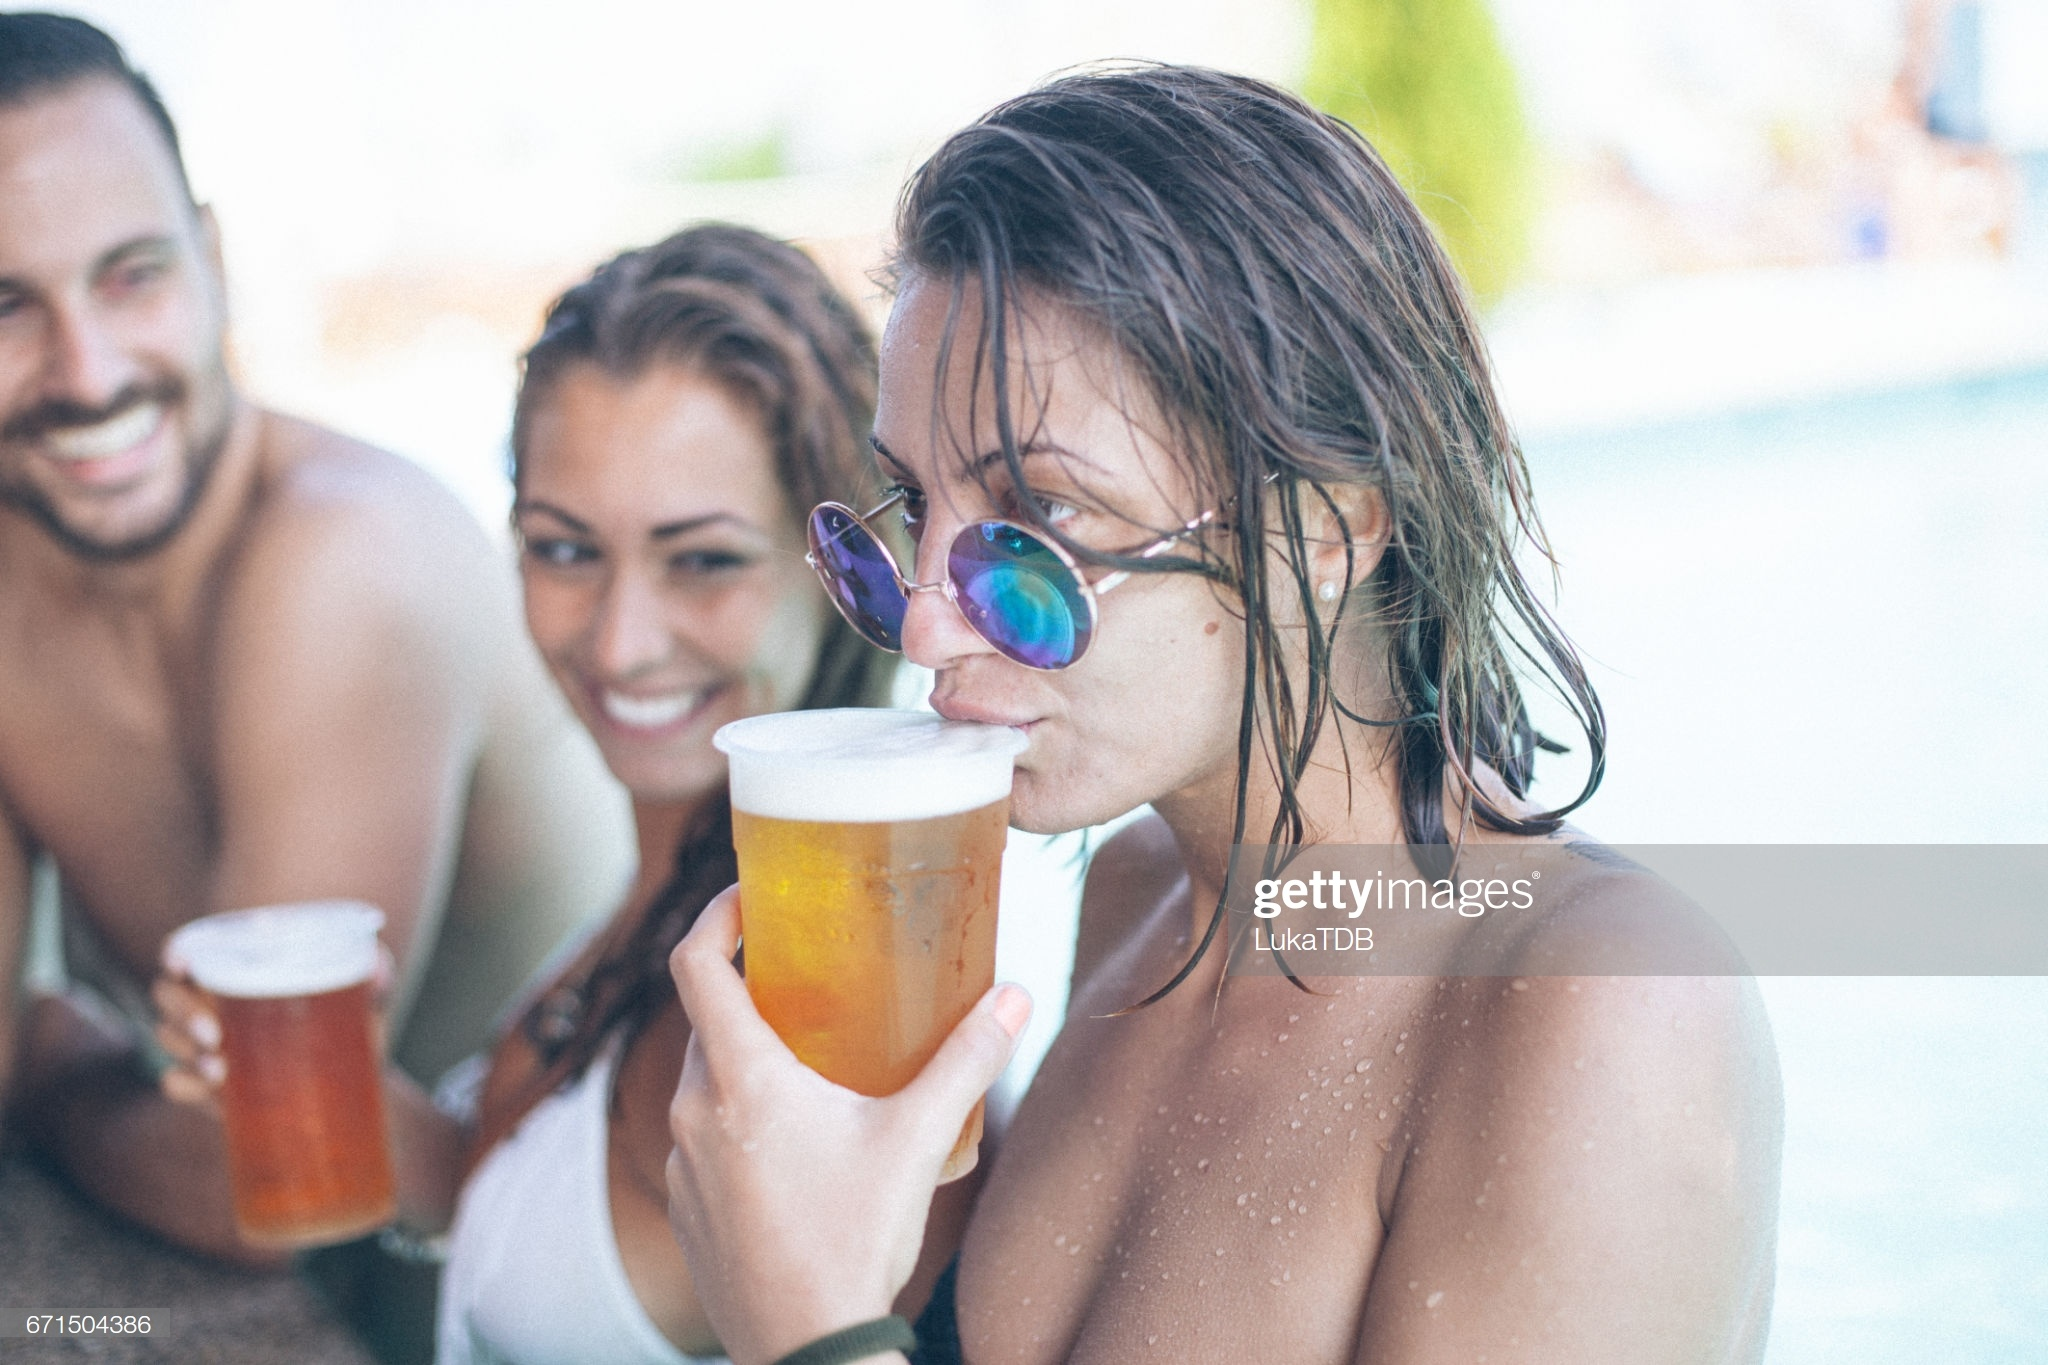glassBeer: (719, 707, 996, 1076), (164, 903, 411, 1248)
